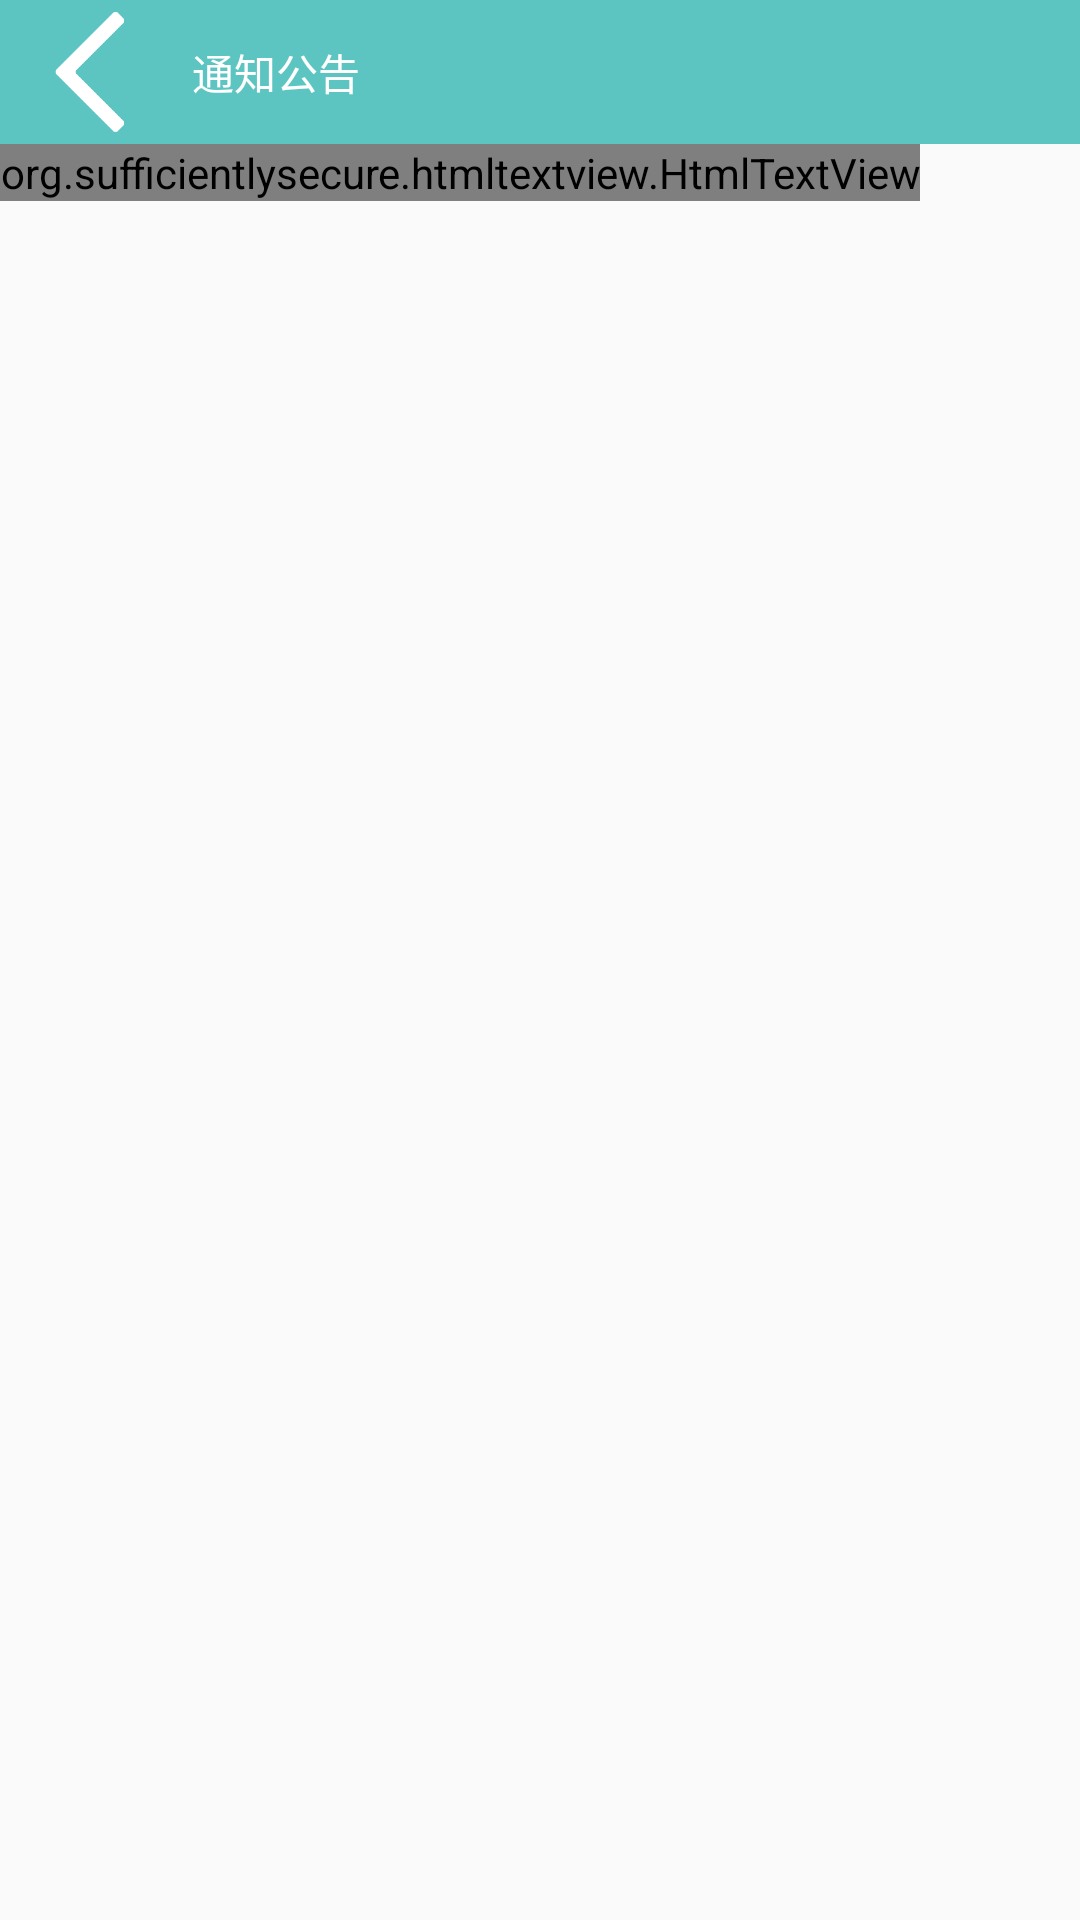

Point at icon controls on the screen. Image size 1080x1920, points as point (x, y).
back: point (89, 72)
